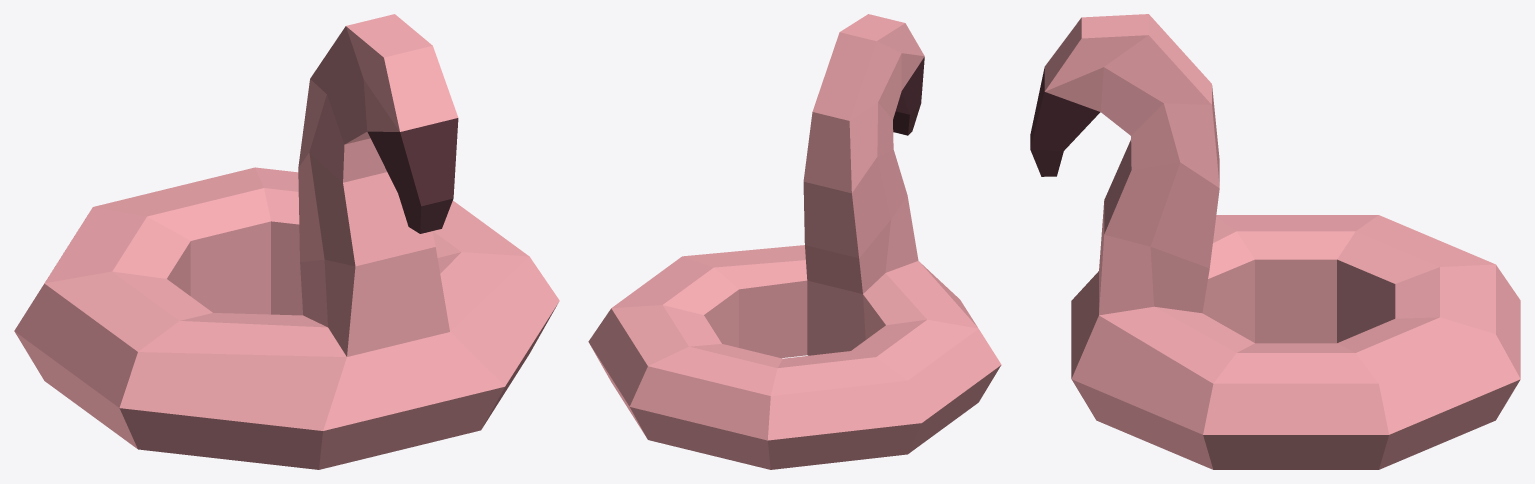
File: inflatable-flamingo-small.fbx
The picture shows the model from 3 angles, left to right: view 1: azimuth 30°, elevation 25°; view 2: azimuth 150°, elevation 25°; view 3: azimuth 270°, elevation 25°; orthographic projection. The views are drawn at different scales.
Visible parts, largest first — view 1: inflatable-flamingo-small; view 2: inflatable-flamingo-small; view 3: inflatable-flamingo-small.
Boxes of the visible parts, box(x1,y1,x2,y2) form: inflatable-flamingo-small: box(14, 14, 559, 469); inflatable-flamingo-small: box(588, 14, 1001, 469); inflatable-flamingo-small: box(1030, 14, 1520, 469).
Bounding box in the file's own units: 0.8322 × 0.7633 × 0.9086.
